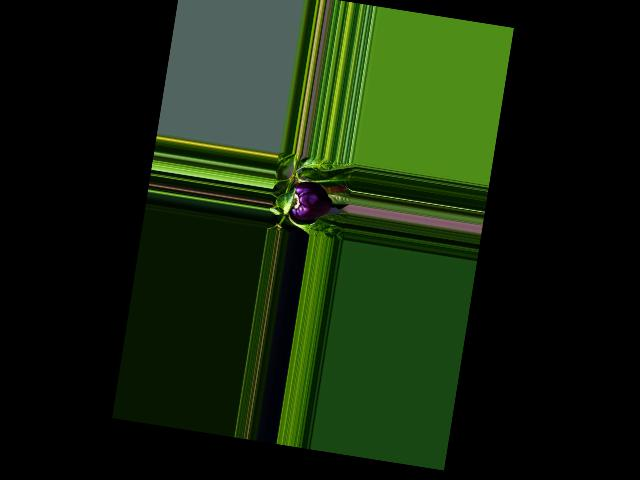bell_pepper: (284, 177, 336, 224)
